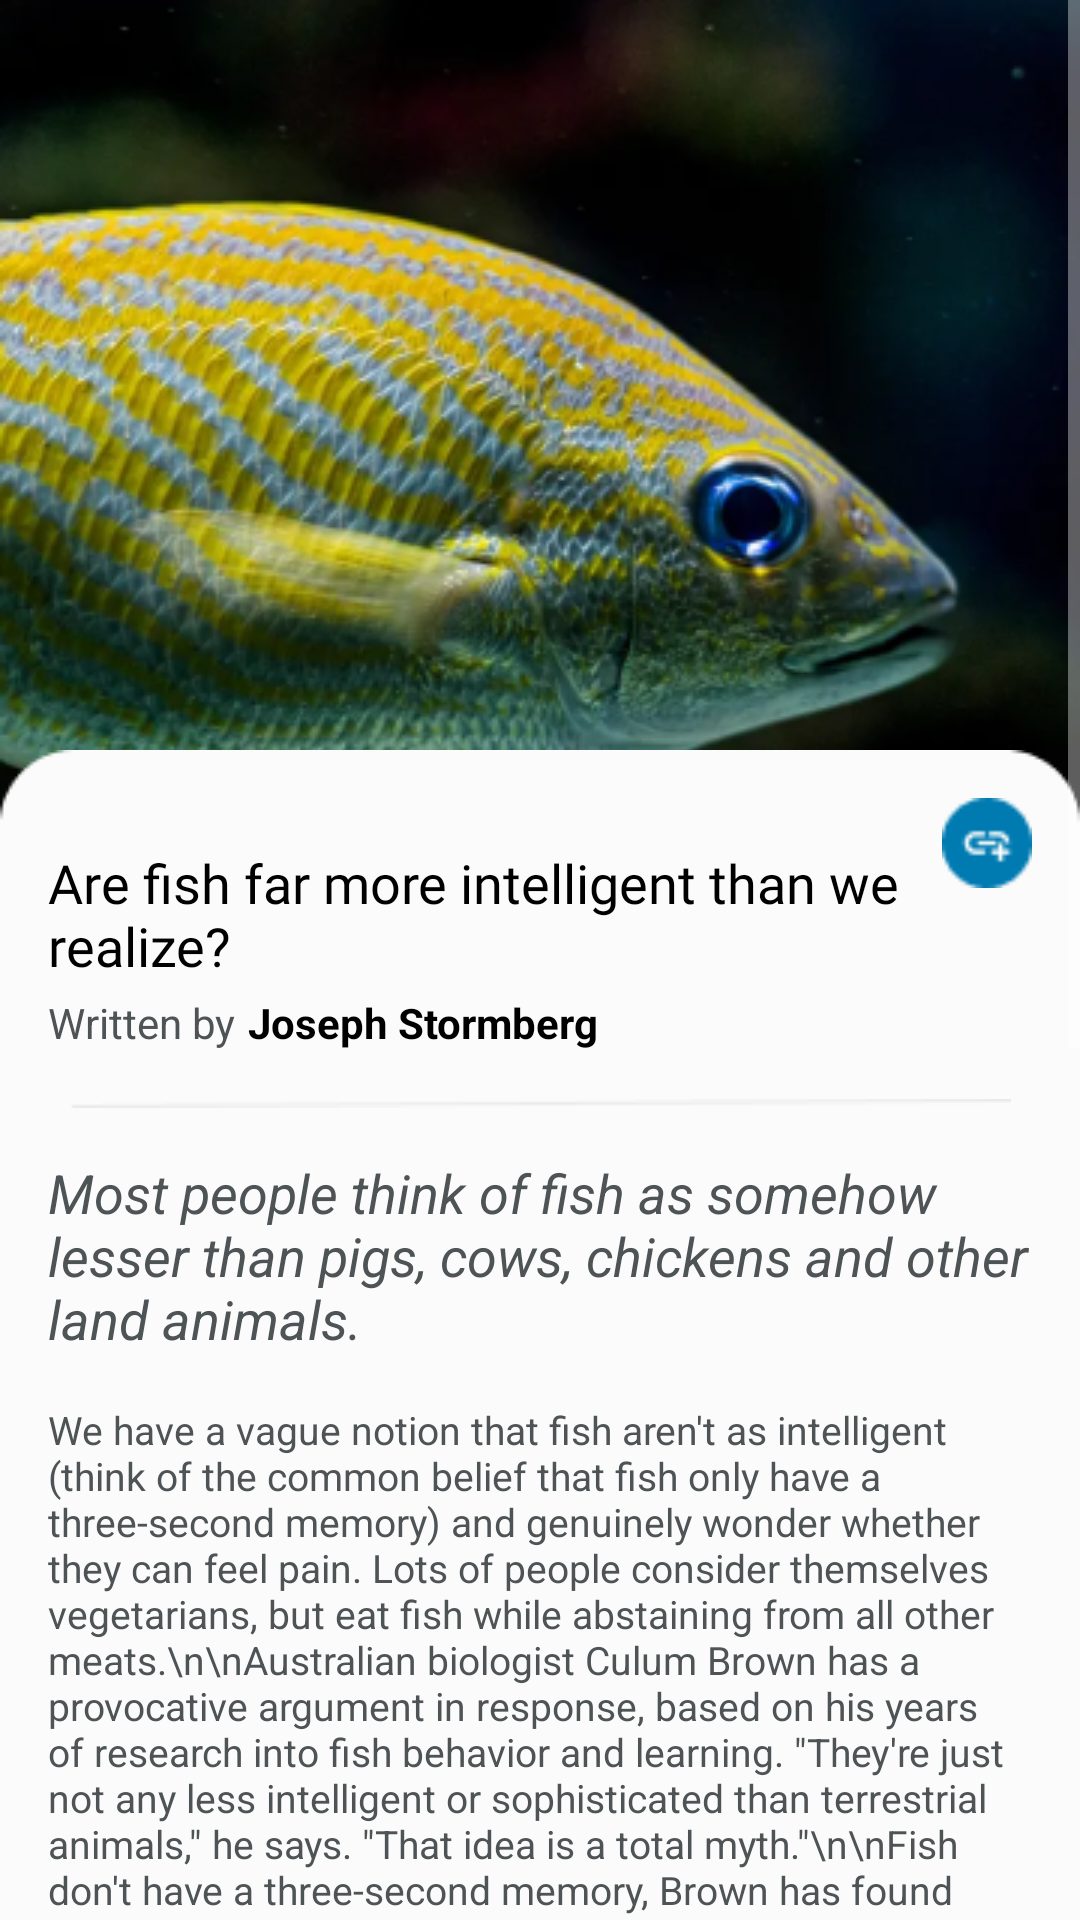

Screen size 1080x1920. Icon name, then its box in pixels as (x1, y1, x2, y2):
link: (942, 798, 1032, 888)
